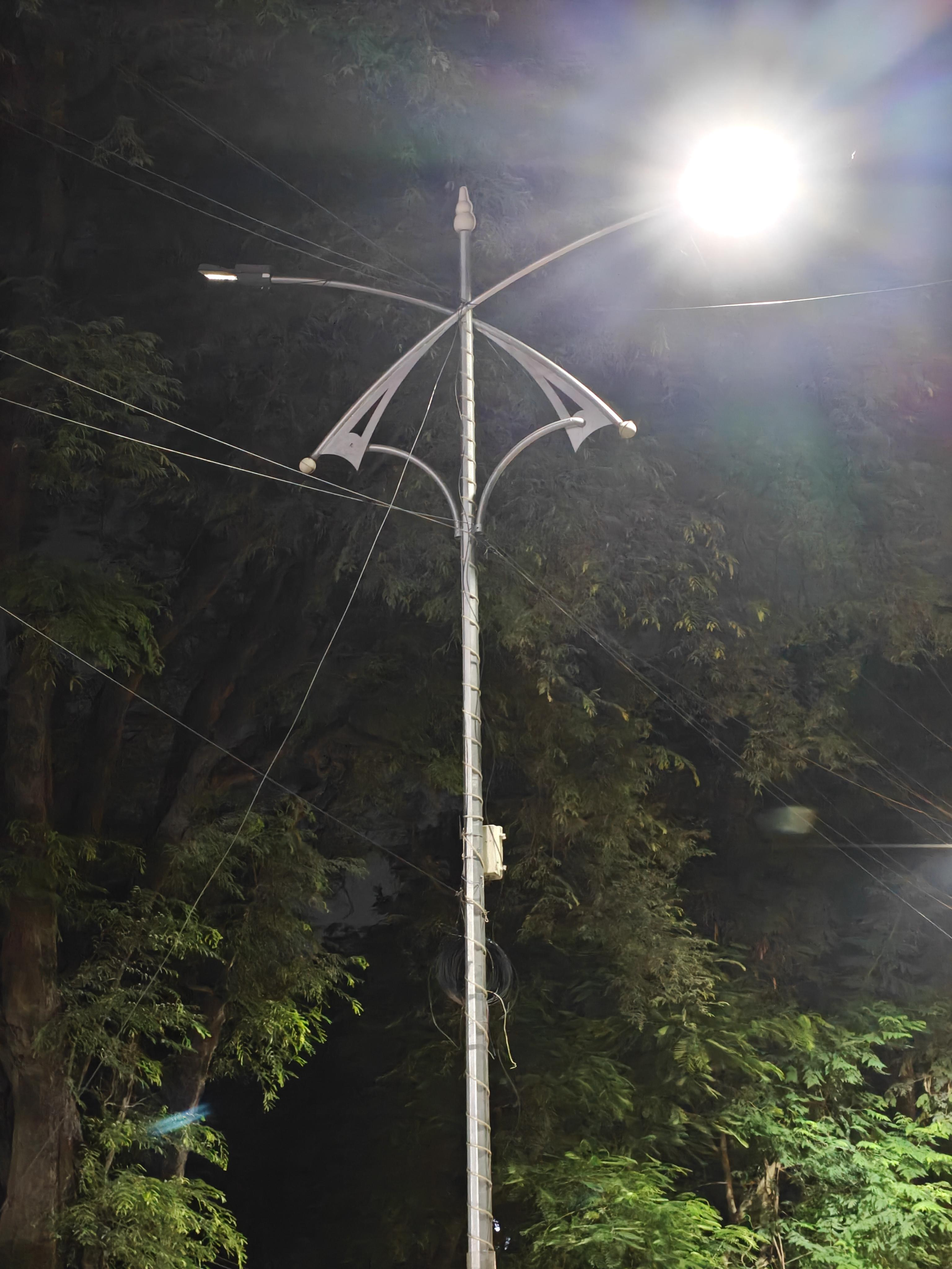streetlight: (197, 259, 315, 312)
